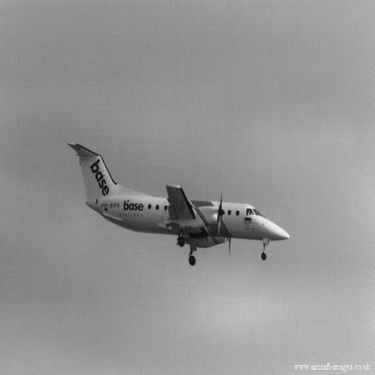airplane: (63, 137, 296, 268)
